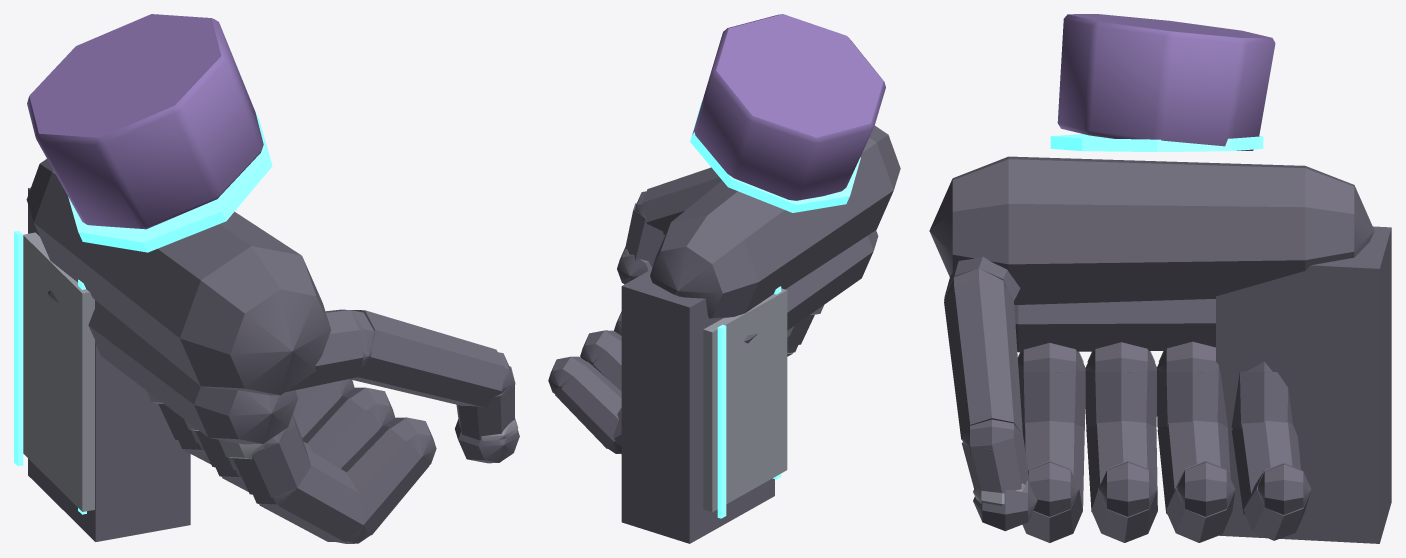
File: w_hand_hold.glb
3 views of the same model, side by side, from view 1: azimuth 30°, elevation 25°; view 2: azimuth 150°, elevation 25°; view 3: azimuth 270°, elevation 25° (orthographic). The views are drawn at different scales.
Parts seen in each view (by area): view 1: glove, sleeve, body, acc; view 2: glove, sleeve, body, acc; view 3: glove, sleeve, acc.
Boxes of the visible parts, x1,y1,x2,y2 form: glove: (26, 159, 519, 543); sleeve: (27, 14, 263, 229); body: (23, 232, 518, 511); acc: (14, 111, 272, 514); glove: (548, 125, 900, 543); sleeve: (692, 14, 885, 200); body: (623, 249, 823, 511); acc: (690, 101, 860, 518); glove: (929, 156, 1391, 543); sleeve: (1057, 14, 1275, 150); acc: (1050, 134, 1263, 151).
Bounding box in the file's own units: 0.1317 × 0.1683 × 0.1401.
